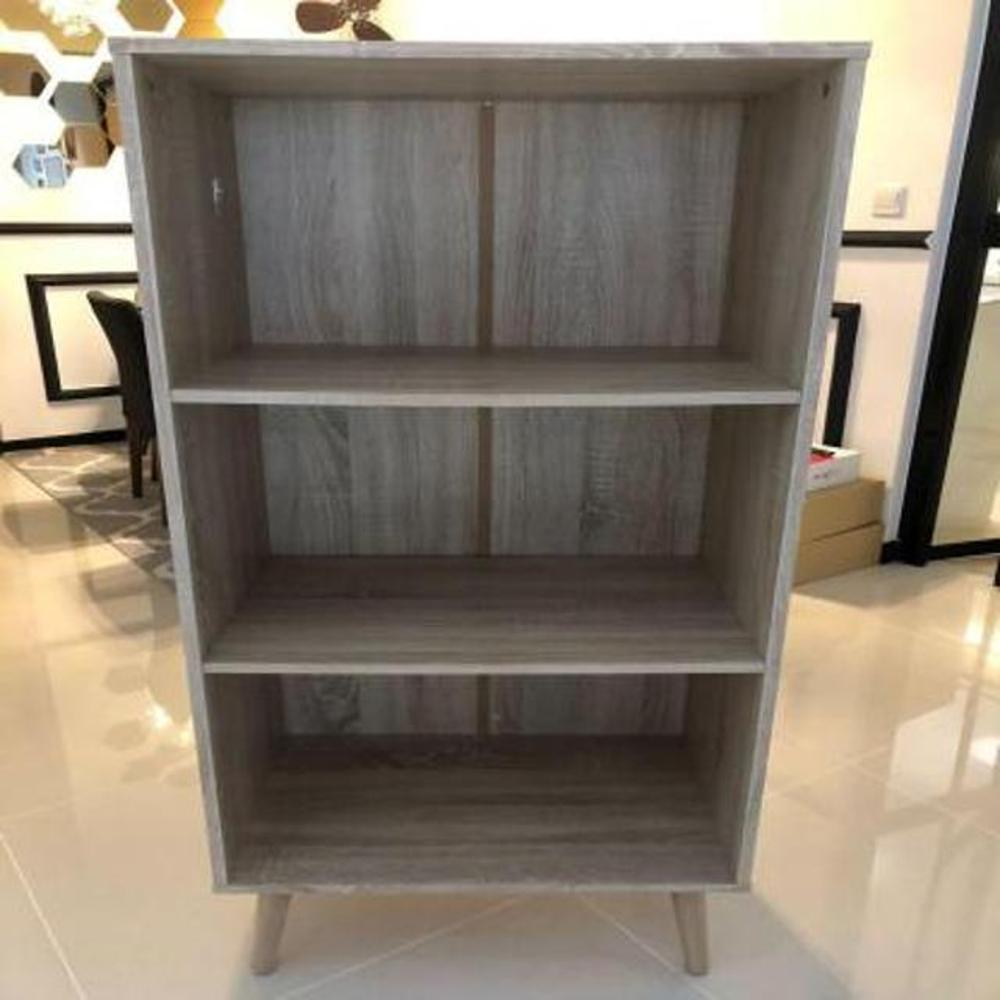lamp: (107, 31, 874, 978)
